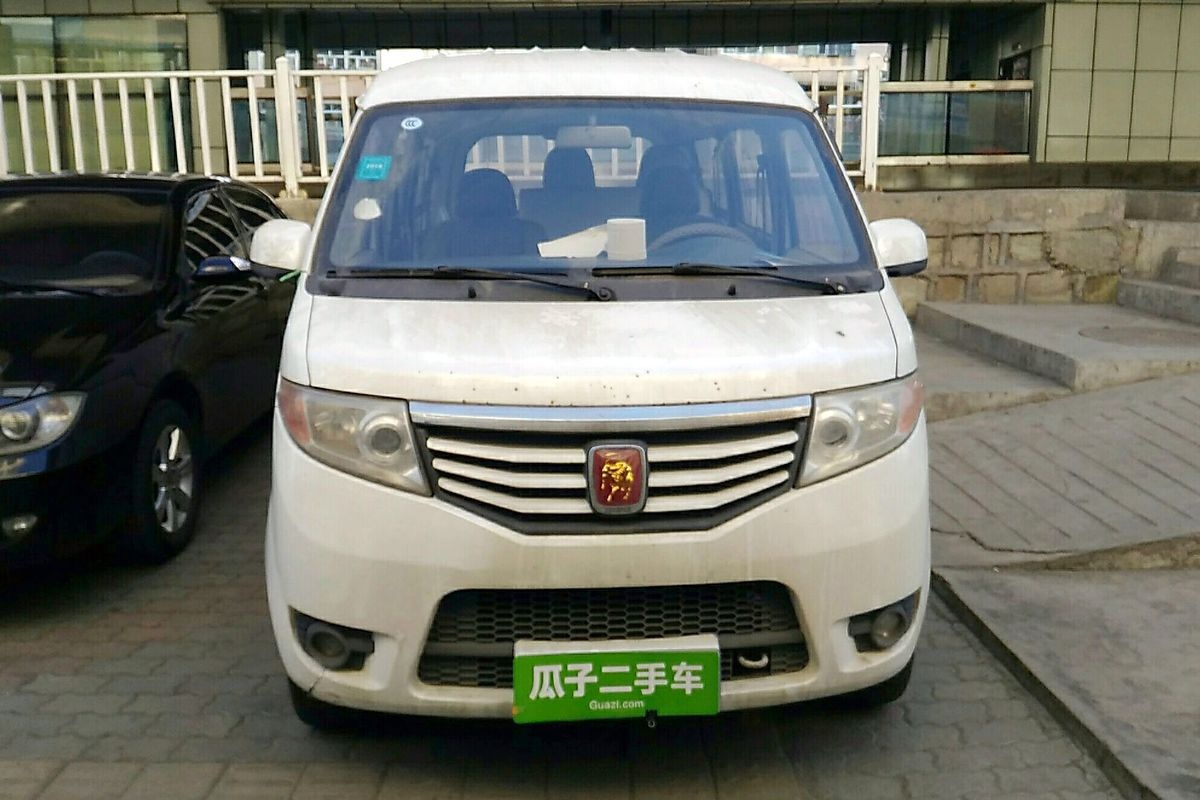minibus: (251, 45, 960, 733)
